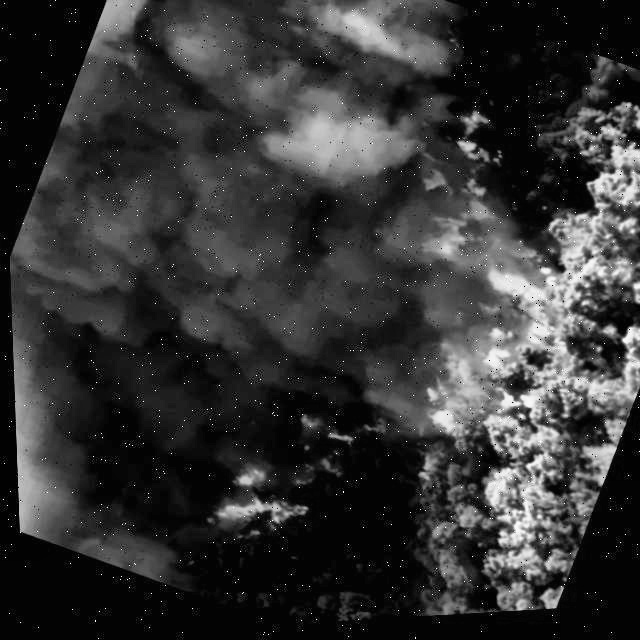Smoke: (0, 0, 610, 640)
